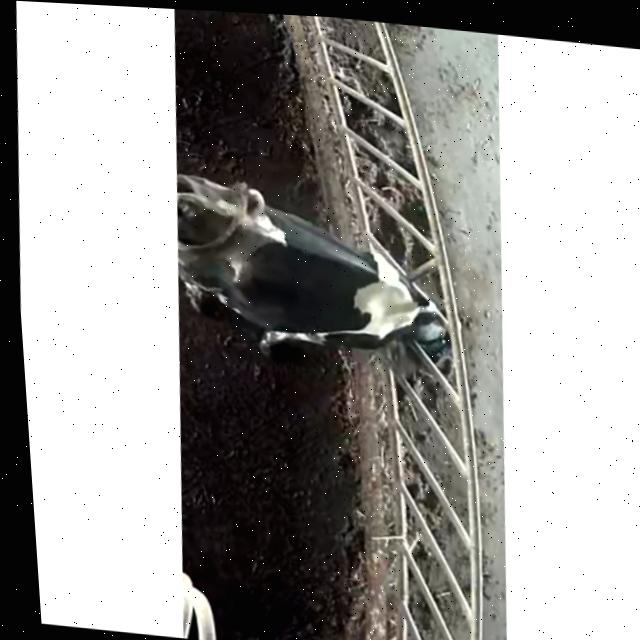eat: (288, 227, 512, 400)
